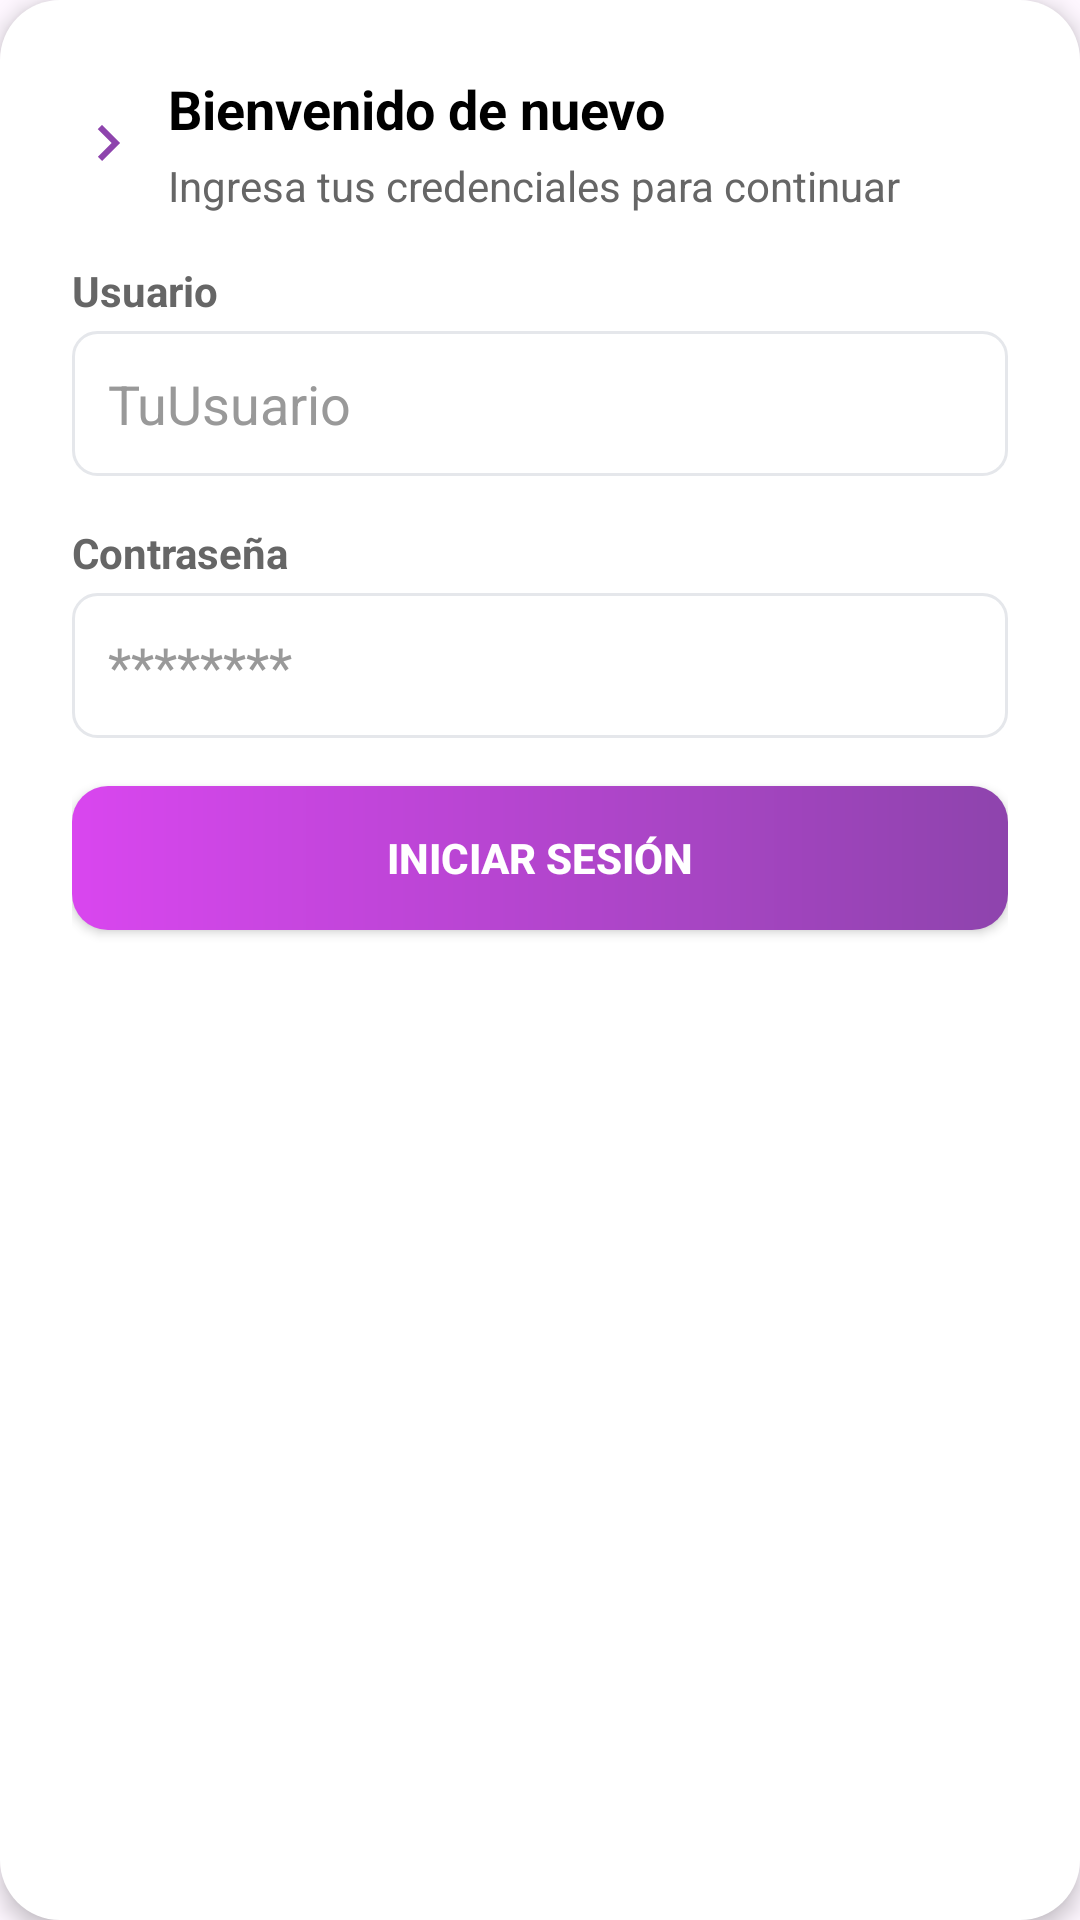

Named icons in this screenshot (1080w x 1920h) and their bounding boxes, [x1=x1, y1=y1, x2=x2, y2=y2]:
welcome arrow: [x1=98, y1=125, x2=120, y2=161]
